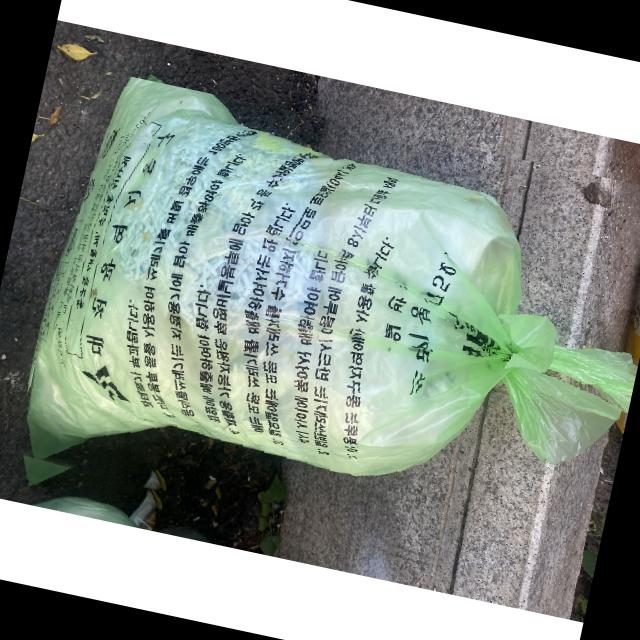general_trashbag: (26, 75, 637, 477)
